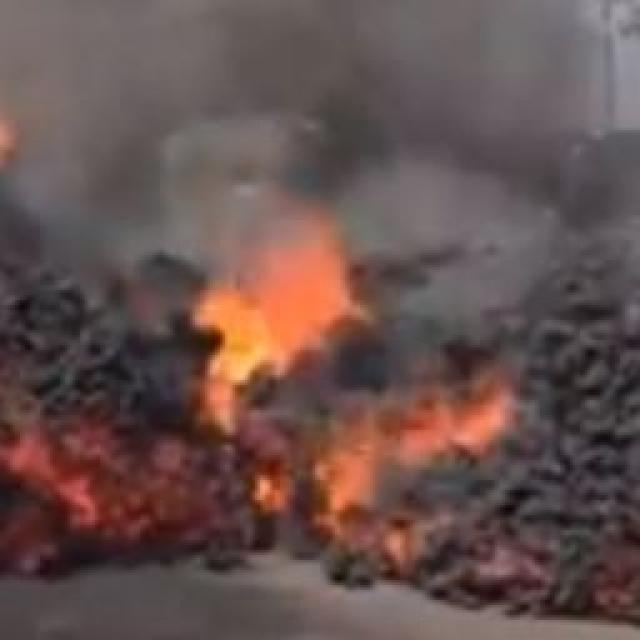Fire: (195, 228, 377, 381), (309, 392, 516, 526), (195, 275, 360, 370), (299, 242, 340, 342)
